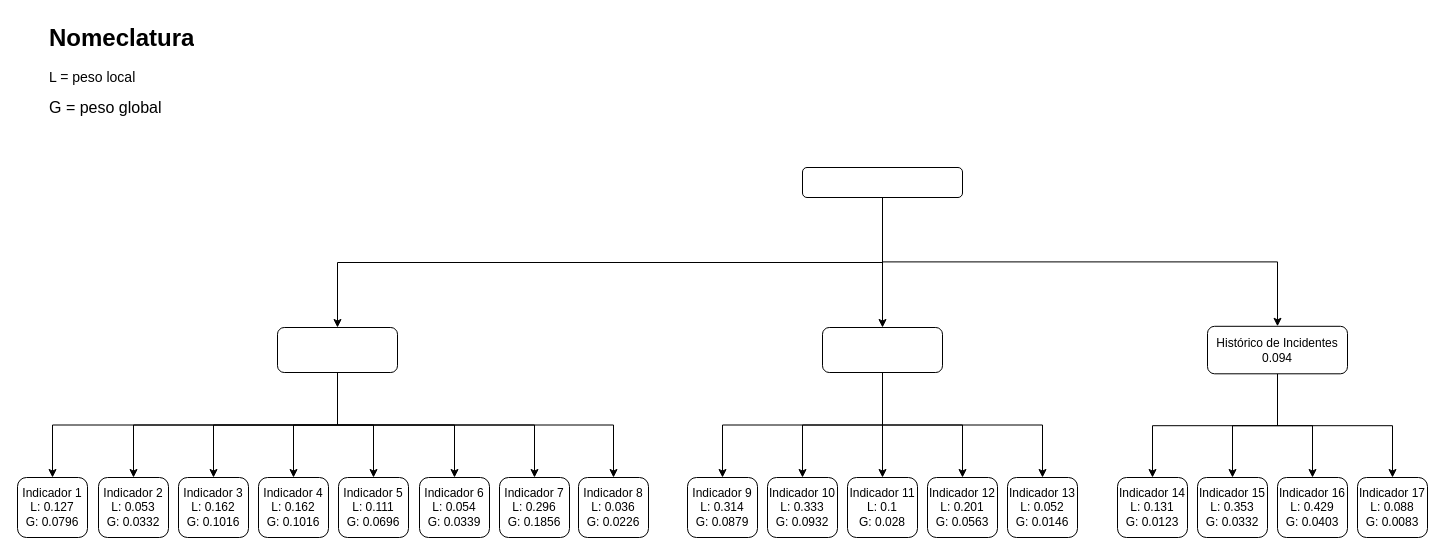
This 1445x555 diagram has some shape labels left out. Here are the shapes that lost their labels. From the top down, the centre of each, then its label:
At [882,182]: "Objetivo Geral".
At [337,349]: "Criticidade 0.627".
At [882,349]: "Suportabilidade 0.28".
